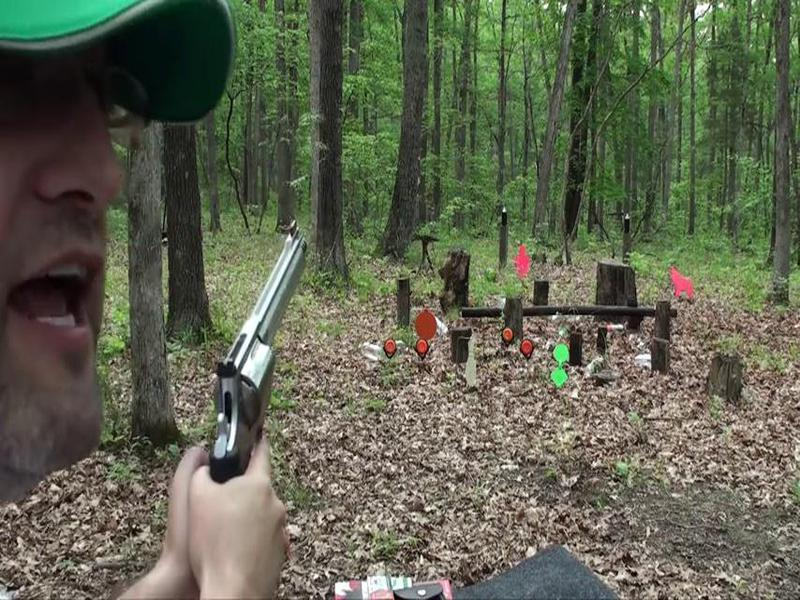Revolver: (177, 208, 322, 510)
